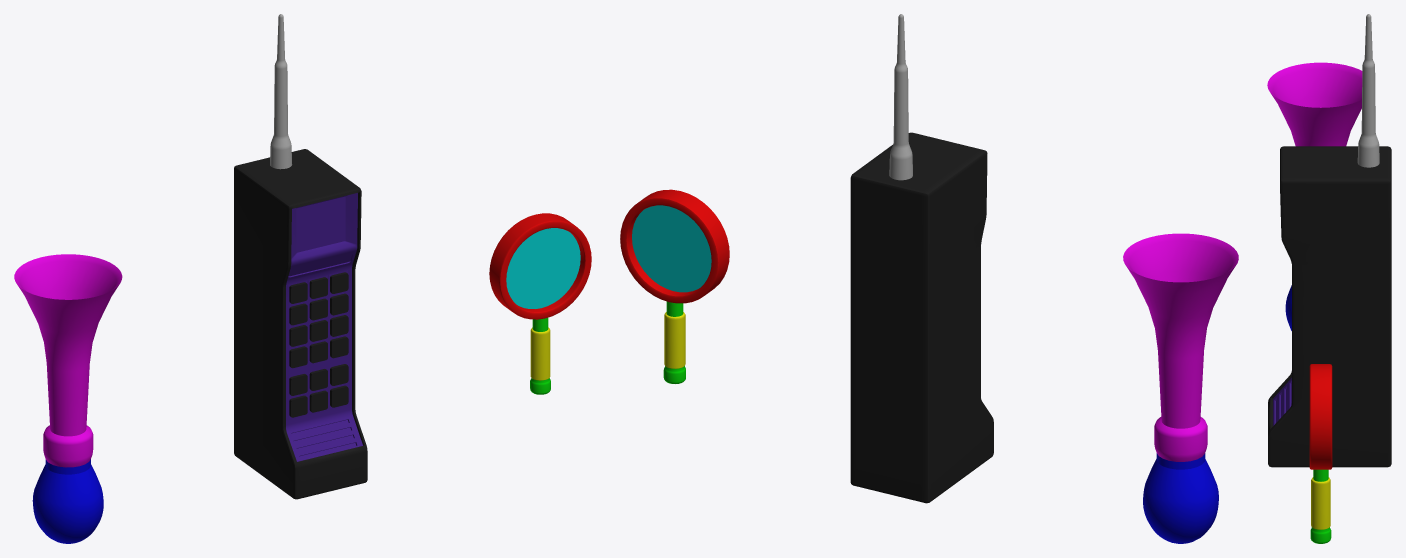
Rendered from ObjectsToFind1.fbx.
3 renders of one model, left to right at view 1: azimuth 30°, elevation 25°; view 2: azimuth 150°, elevation 25°; view 3: azimuth 270°, elevation 25°, orthographic. The views are drawn at different scales.
Visible parts, largest first — view 1: Phone, ClownHorn, MagnifyingGlass; view 2: Phone, ClownHorn, MagnifyingGlass; view 3: Phone, ClownHorn, MagnifyingGlass.
Boxes of the visible parts, x1,y1,x2,y2 form: Phone: (234,14,367,499); ClownHorn: (14,254,122,543); MagnifyingGlass: (489,213,591,394); Phone: (850,14,993,503); ClownHorn: (1123,233,1238,543); MagnifyingGlass: (620,189,729,383); Phone: (1268,14,1391,467); ClownHorn: (1267,62,1362,330); MagnifyingGlass: (1309,364,1332,543).
Bounding box in the file's own units: 91.6 × 69.94 × 17.61.
